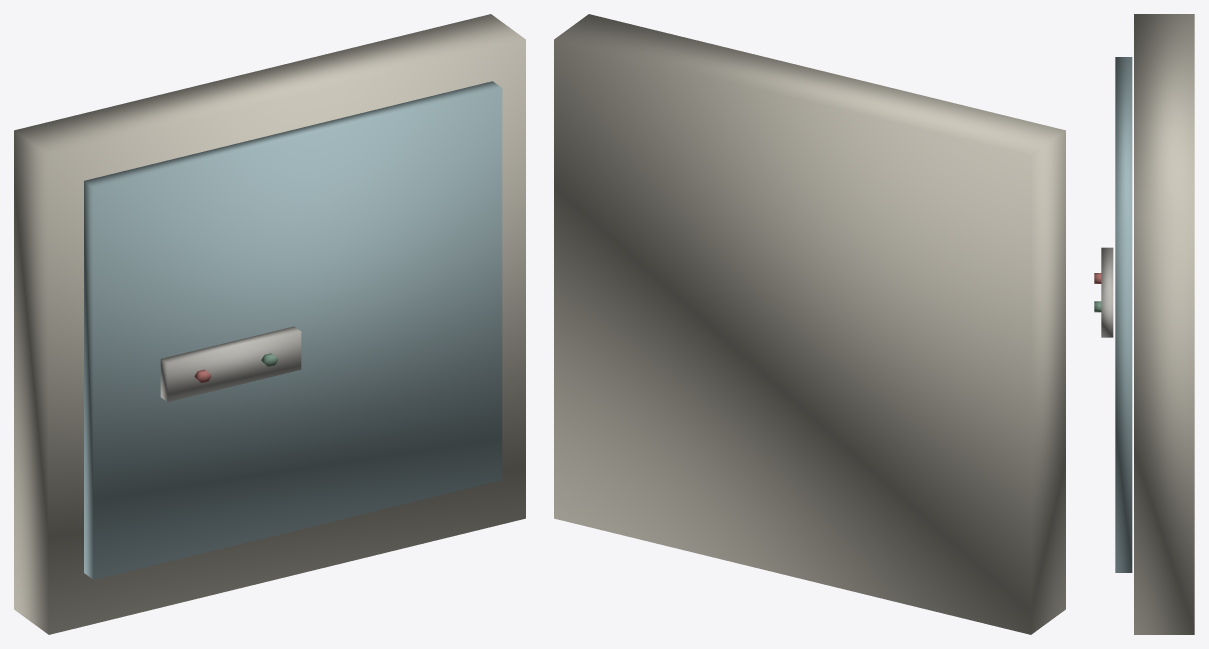
Rendered from x_ray_lightbox__squat.glb.
3 renders of one model, left to right at view 1: azimuth 30°, elevation 25°; view 2: azimuth 150°, elevation 25°; view 3: azimuth 270°, elevation 25°, orthographic. The views are drawn at different scales.
Parts seen in each view (by area): view 1: world; view 2: world; view 3: world.
Part boxes in pixels (box(x1,y1,x2,y2)): world: box(14, 14, 525, 634); world: box(554, 14, 1065, 634); world: box(1094, 14, 1194, 634).
Size of the model in its own units: 0.77 by 0.7392 by 0.1604.
